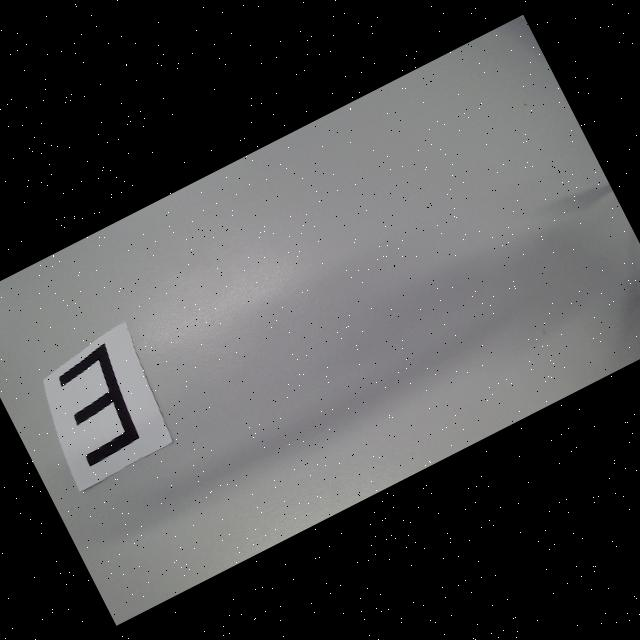FAKE: (44, 342, 154, 468)
